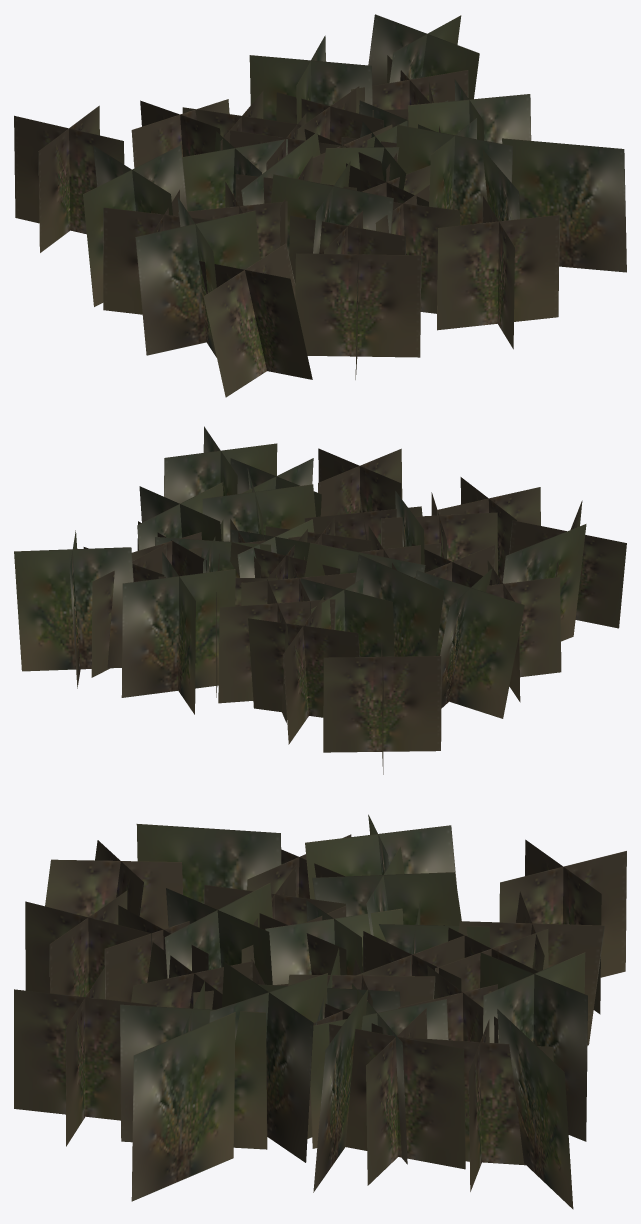
Rendered from GrassPatchBig01a.obj.
The picture shows the model from 3 angles, top to bottom: view 1: azimuth 30°, elevation 25°; view 2: azimuth 150°, elevation 25°; view 3: azimuth 270°, elevation 25°; orthographic projection. The views are drawn at different scales.
Visible parts, largest first — view 1: GrassPatchBig01a; view 2: GrassPatchBig01a; view 3: GrassPatchBig01a.
Boxes of the visible parts, x1,y1,x2,y2 form: GrassPatchBig01a: [14, 14, 626, 397]; GrassPatchBig01a: [14, 426, 626, 774]; GrassPatchBig01a: [14, 814, 626, 1209].
Size of the model in its own units: 4.31 by 1.22 by 4.14.
